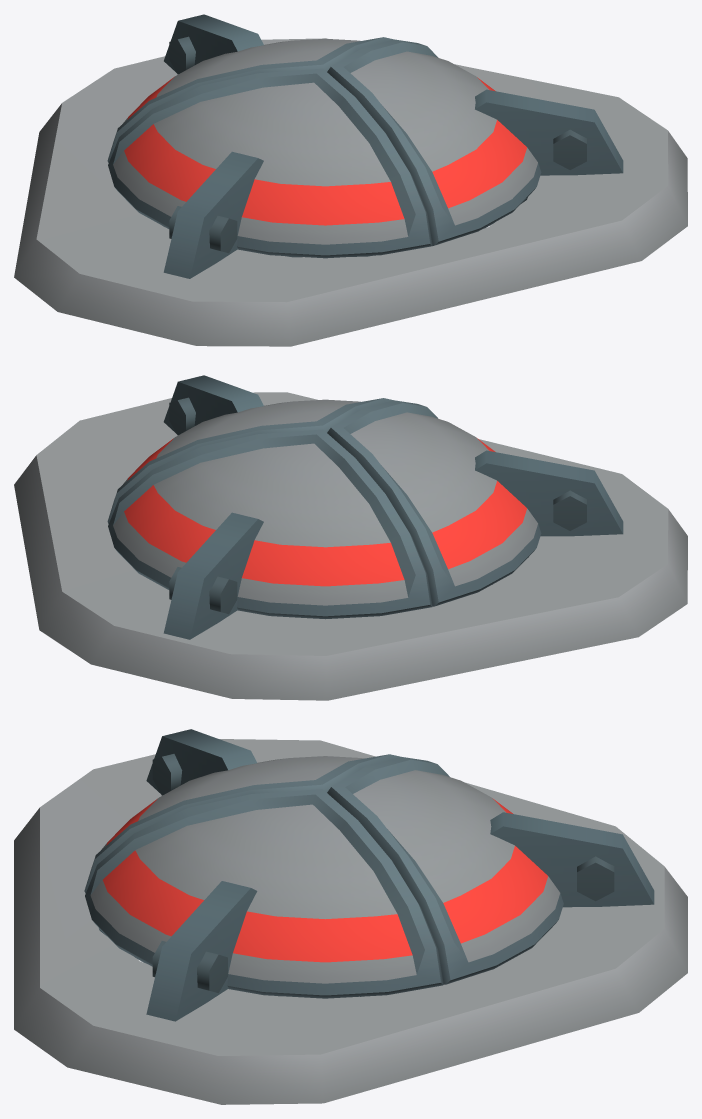
The model's file is Hatch_006.glb.
The picture shows the model from 3 angles, top to bottom: view 1: azimuth 30°, elevation 25°; view 2: azimuth 150°, elevation 25°; view 3: azimuth 270°, elevation 25°; orthographic projection. The views are drawn at different scales.
Visible parts, largest first — view 1: Hatch_006; view 2: Hatch_006; view 3: Hatch_006.
Boxes of the visible parts, x1,y1,x2,y2 form: Hatch_006: (14,14,687,346); Hatch_006: (14,375,687,700); Hatch_006: (14,729,687,1104).
Bounding box in the file's own units: 1.34 × 0.2729 × 1.12.
1 material, 1 textured.
